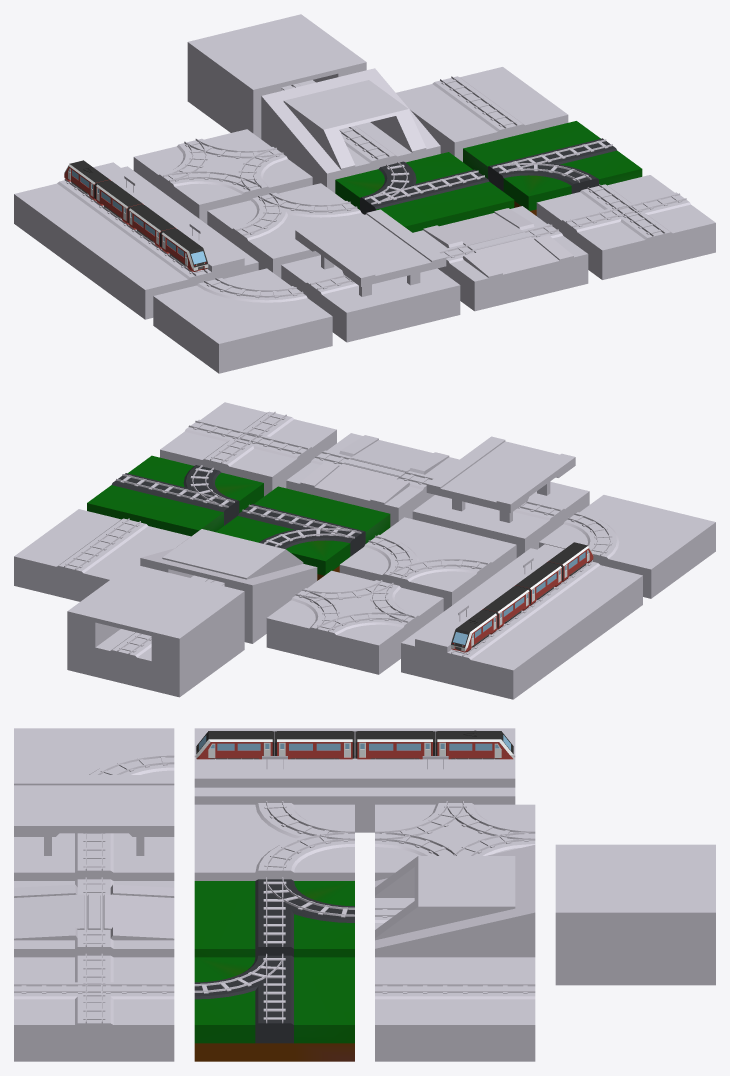
Rendered from rail_basic_v1.fbx.
3 renders of one model, top to bottom at view 1: azimuth 30°, elevation 25°; view 2: azimuth 150°, elevation 25°; view 3: azimuth 270°, elevation 25°, orthographic. The views are drawn at different scales.
Visible parts, largest first — view 1: landscape-track-1-road-bridge, landscape-track-1-tunnel-entry, landscape-track-1-curve, landscape-track-1-tunnel-segment, landscape-track-1-rail-crossing, landscape-track-1-road-crossing, landscape-track-1-diamond, landscape-track-1-y-right, landscape-track-1-platform.001, landscape-track-1-straight, landscape-track-1-y-right.001, landscape-track-1-platform (+5 smaller); view 2: landscape-track-1-tunnel-segment, landscape-track-1-road-bridge, landscape-track-1-diamond, landscape-track-1-platform, landscape-track-1-curve, landscape-track-1-rail-crossing, landscape-track-1-tjunction, landscape-track-1-straight, landscape-track-1-y-right, landscape-track-1-road-crossing, landscape-track-1-tunnel-entry, landscape-track-1-y-right.001 (+5 smaller); view 3: landscape-track-1-tunnel-segment, landscape-track-1-road-bridge, landscape-track-1-y-right, landscape-track-1-rail-crossing, landscape-track-1-straight, landscape-track-1-tunnel-entry, landscape-track-1-road-crossing, landscape-track-1-y-right.001, landscape-track-1-tjunction, landscape-track-1-diamond, landscape-track-1-platform, landscape-track-1-platform.001 (+5 smaller).
Boxes of the visible parts, x1,y1,x2,y2 form: landscape-track-1-road-bridge: (281,209,460,342); landscape-track-1-tunnel-entry: (261,68,440,193); landscape-track-1-curve: (153,268,332,373); landscape-track-1-tunnel-segment: (187,14,366,138); landscape-track-1-rail-crossing: (536,175,715,279); landscape-track-1-road-crossing: (413,206,588,311); landscape-track-1-diamond: (133,129,312,224); landscape-track-1-y-right: (463,121,642,215); landscape-track-1-platform.001: (79,210,258,319); landscape-track-1-straight: (396,67,568,161); landscape-track-1-y-right.001: (335,152,514,232); landscape-track-1-platform: (14,162,192,271); landscape-track-1-tunnel-segment: (67,564,244,697); landscape-track-1-road-bridge: (412,436,589,557); landscape-track-1-diamond: (266,570,443,674); landscape-track-1-platform: (401,591,578,699); landscape-track-1-curve: (539,495,715,598); landscape-track-1-rail-crossing: (160,402,336,496); landscape-track-1-tjunction: (339,517,516,611); landscape-track-1-straight: (14,509,190,601); landscape-track-1-y-right: (87,455,263,536); landscape-track-1-road-crossing: (286,433,459,527); landscape-track-1-tunnel-entry: (140,529,317,643); landscape-track-1-y-right.001: (216,486,390,580); landscape-track-1-tunnel-segment: (555,844,715,985); landscape-track-1-road-bridge: (14,775,174,880); landscape-track-1-y-right: (194,953,354,1061); landscape-track-1-rail-crossing: (14,953,174,1061); landscape-track-1-straight: (375,957,535,1061); landscape-track-1-tunnel-entry: (375,845,535,957); landscape-track-1-road-crossing: (14,877,174,957); landscape-track-1-y-right.001: (194,877,354,957); landscape-track-1-tjunction: (194,801,354,880); landscape-track-1-diamond: (375,801,535,880); landscape-track-1-platform: (355,728,515,832); landscape-track-1-platform.001: (194,728,354,804).
Size of the model in its own units: 3500 by 410 by 3500.
